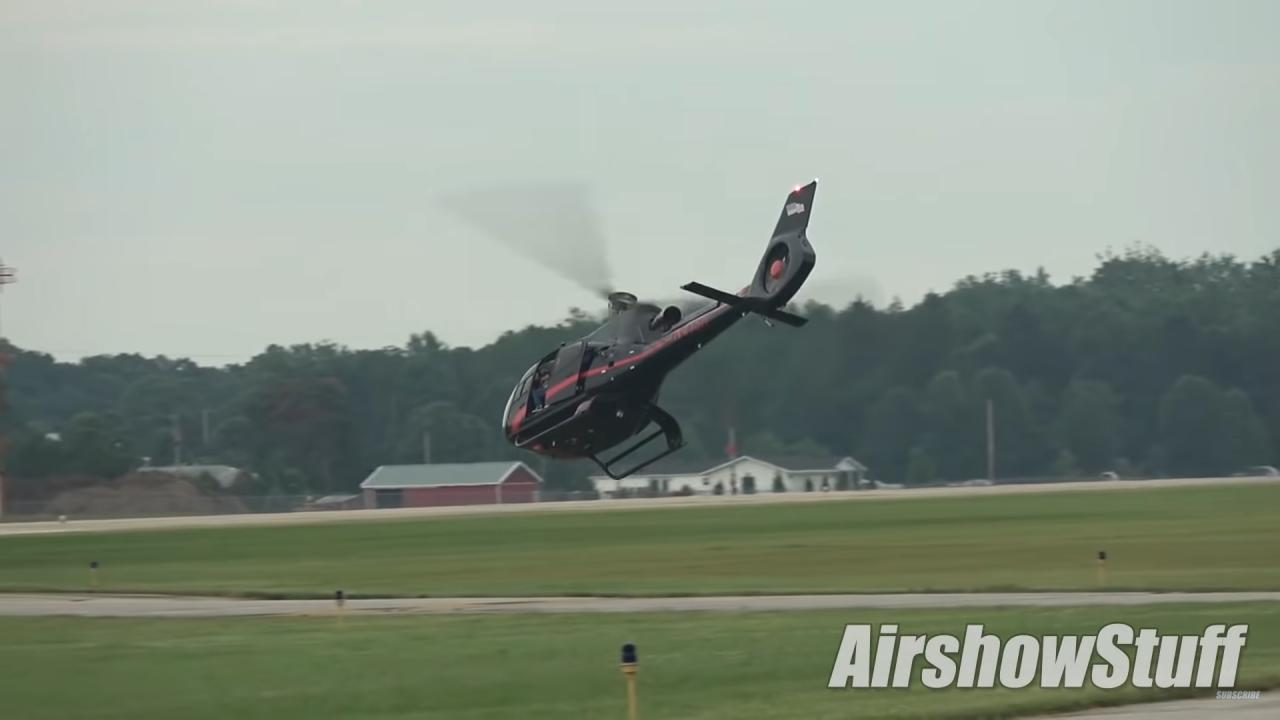Helicopter: (445, 163, 855, 491)
